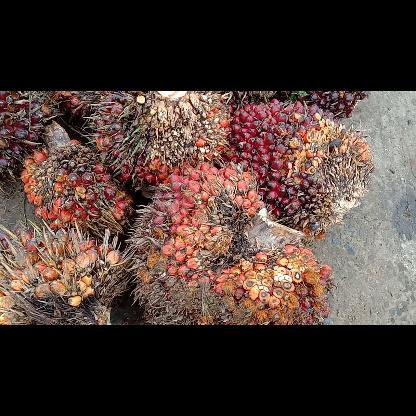TBS masak: (132, 160, 332, 324), (235, 102, 378, 232), (84, 91, 228, 191), (19, 122, 135, 242), (4, 223, 128, 324)
